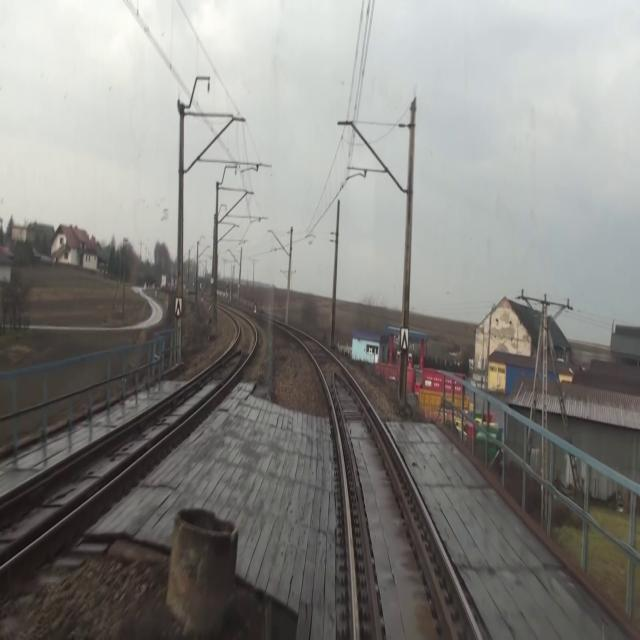rail-track: (291, 330, 477, 639), (0, 354, 239, 546), (336, 377, 451, 639), (225, 314, 255, 365)
